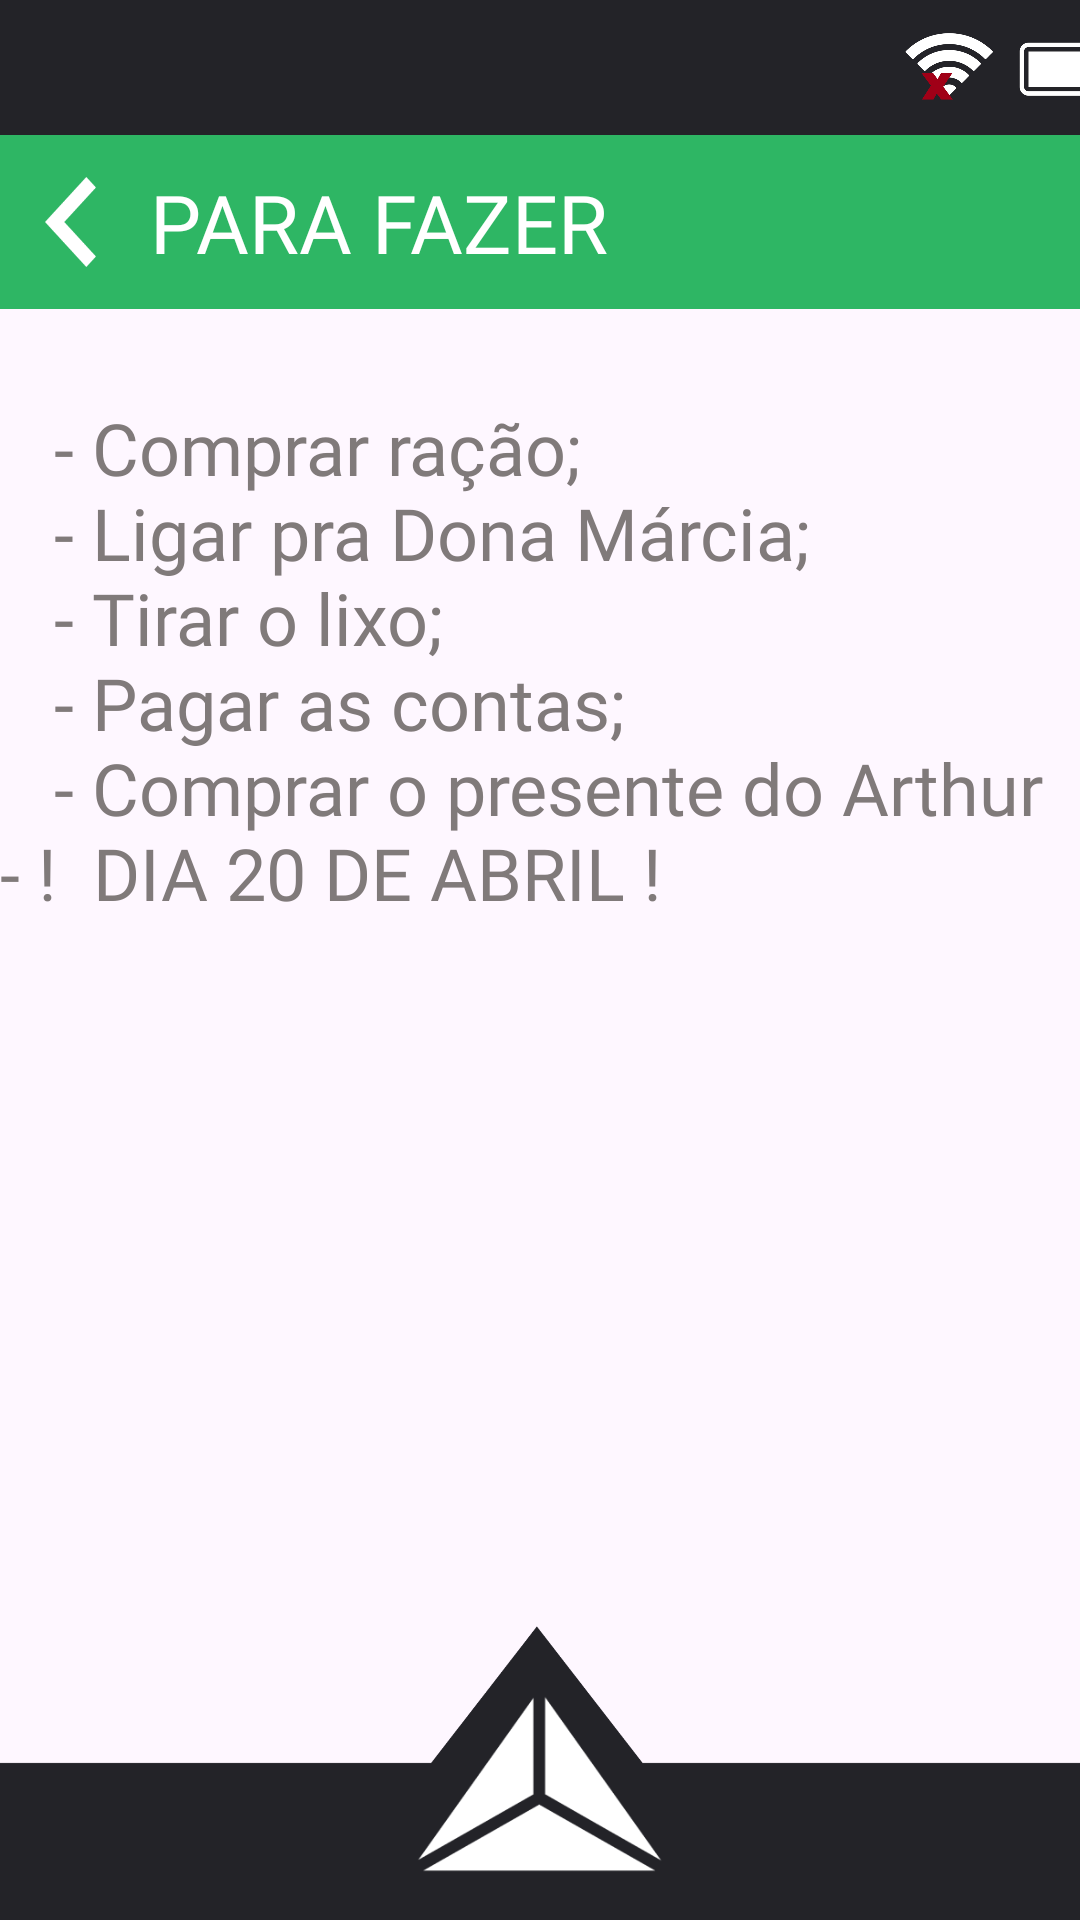

Icon bounding boxes for this 1080w x 1920h phone screenshot, format bbox(x1, y1, x2, y2):
btnvoltaremail: bbox(45, 177, 96, 267)
